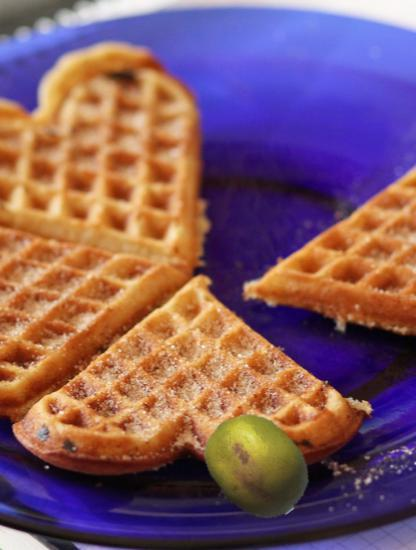Pomelo: (202, 410, 314, 522)
